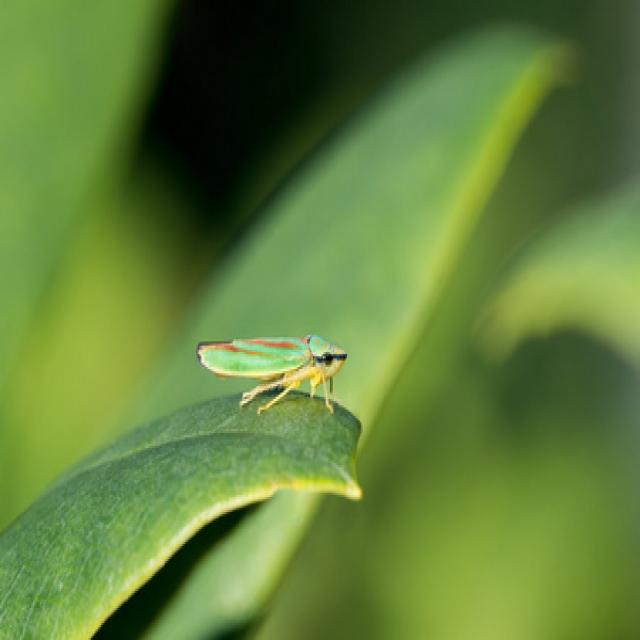Yechan: (195, 324, 354, 414)
